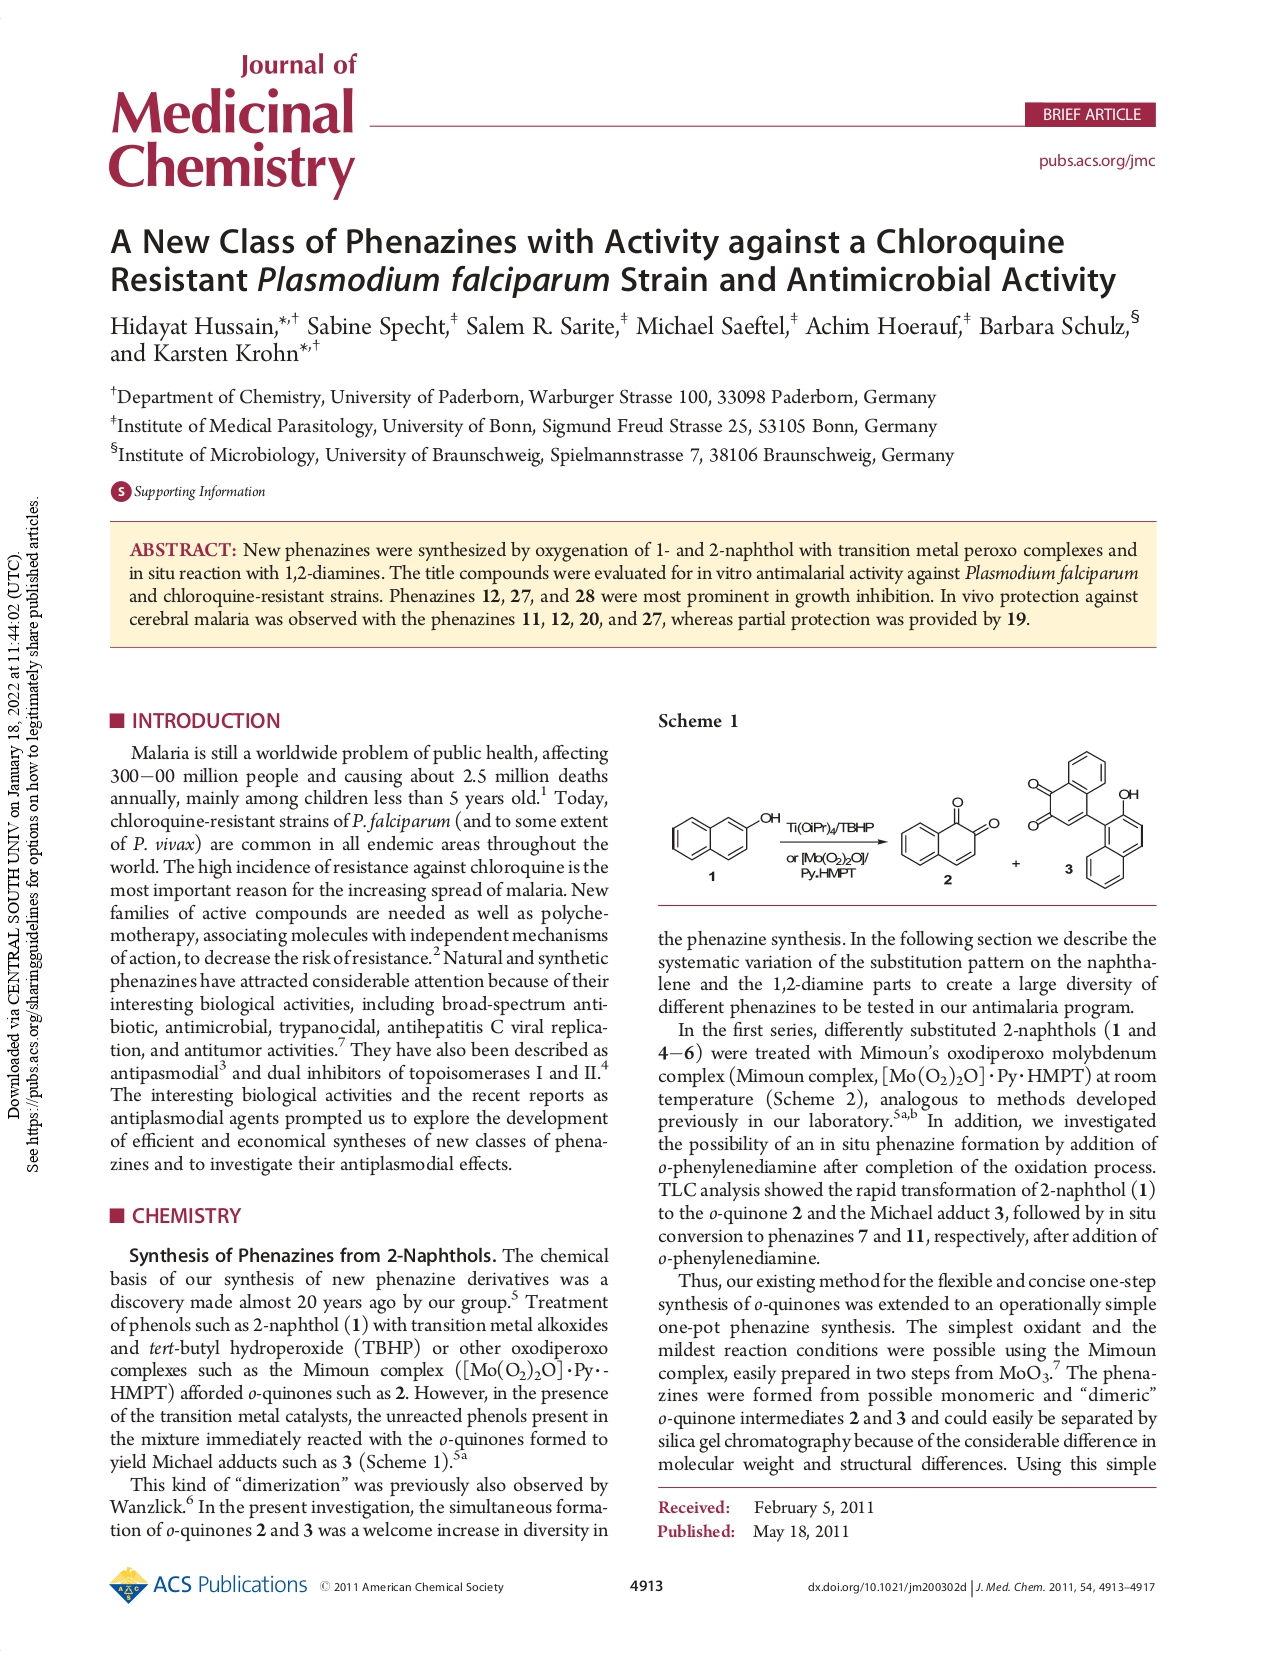exist_molecular: (1025, 749, 1148, 890), (898, 794, 1001, 867), (665, 807, 782, 864)
